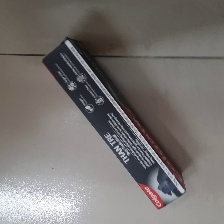Colgate Than: (40, 37, 187, 212)
